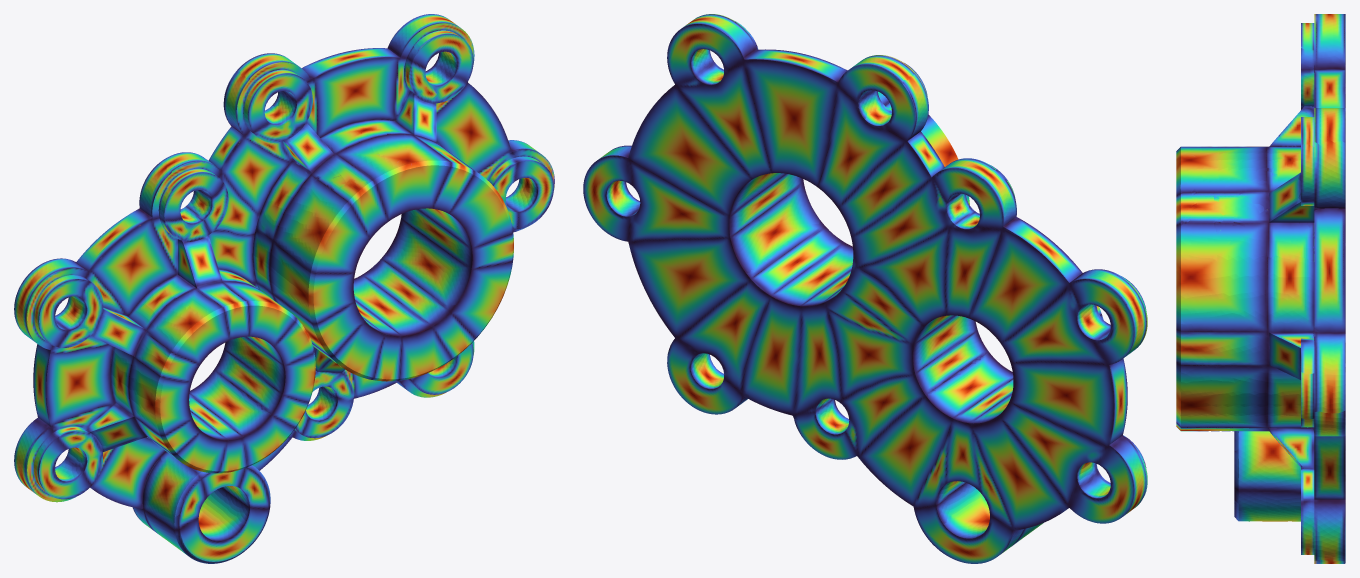
Rendered from gen3.glb.
The picture shows the model from 3 angles, left to right: view 1: azimuth 30°, elevation 25°; view 2: azimuth 150°, elevation 25°; view 3: azimuth 270°, elevation 25°; orthographic projection. The views are drawn at different scales.
Parts seen in each view (by area): view 1: Node; view 2: Node; view 3: Node.
Boxes of the visible parts, box(x1,y1,x2,y2) form: Node: box(14, 14, 554, 563); Node: box(583, 14, 1147, 563); Node: box(1176, 14, 1345, 563).
Size of the model in its own units: 164 by 135 by 38.03.
Materials: 1 (1 with a texture image).
